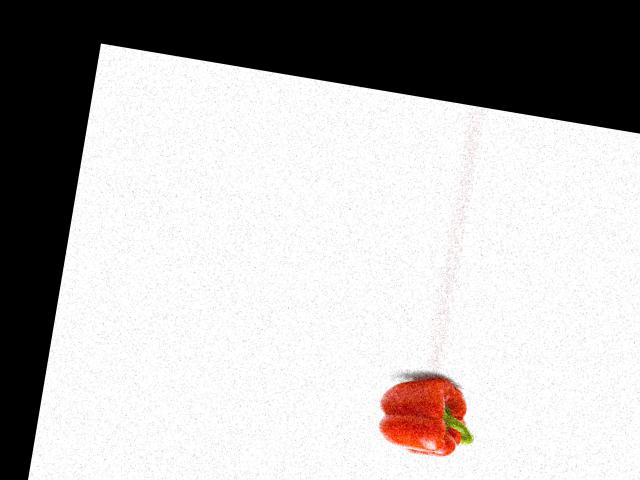bell_pepper: (365, 369, 487, 463)
